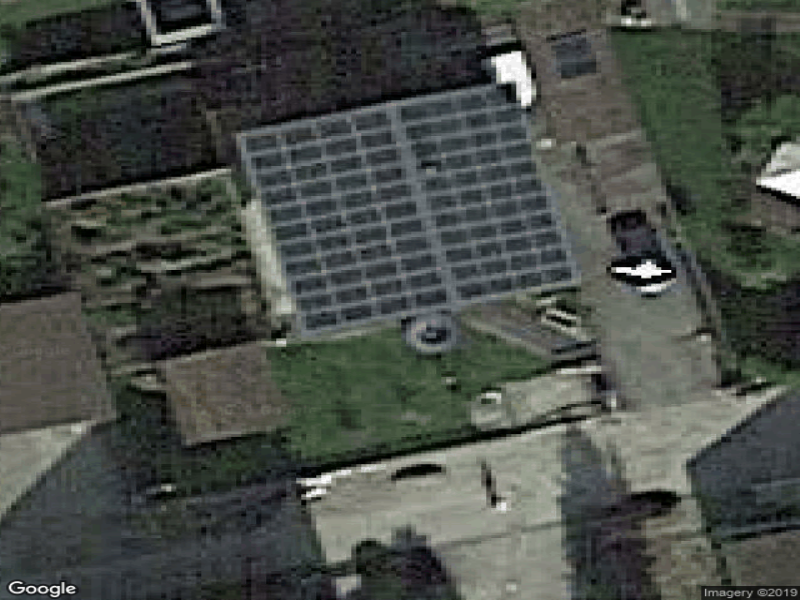pv: (246, 87, 577, 333)
